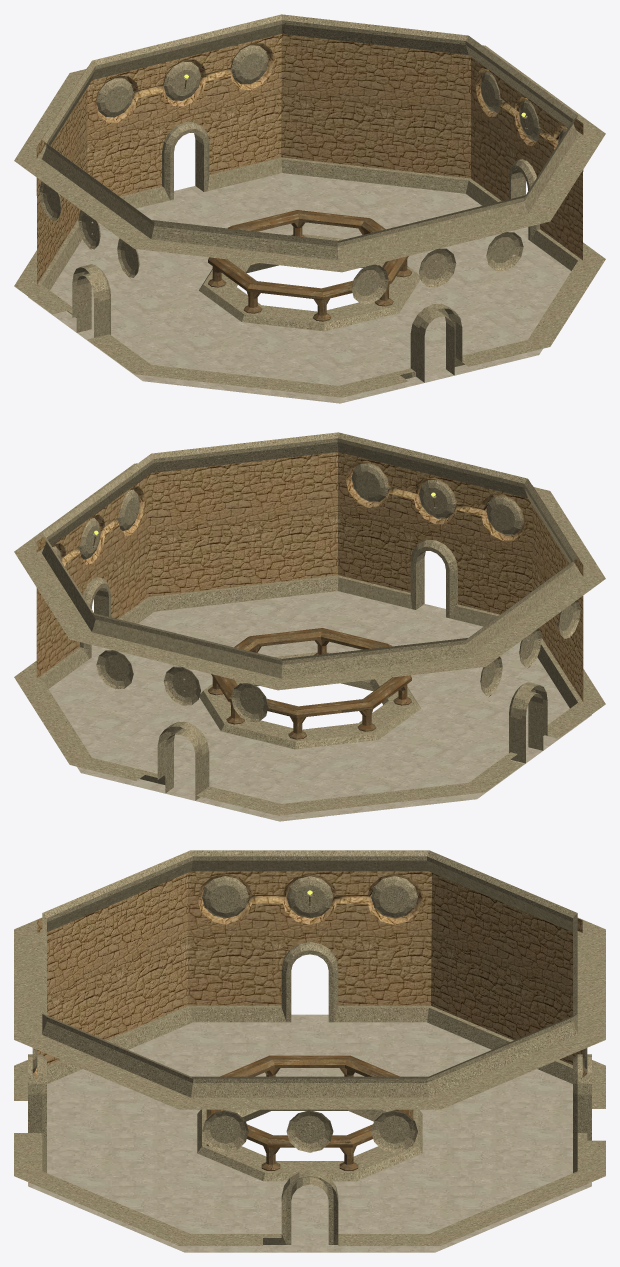
The model's file is LibraryMainRoom-transformed.glb.
The picture shows the model from 3 angles, top to bottom: view 1: azimuth 30°, elevation 25°; view 2: azimuth 150°, elevation 25°; view 3: azimuth 270°, elevation 25°; orthographic projection. The views are drawn at different scales.
Visible parts, largest first — view 1: object1.021, lowerwallCol, floorCol, railing1; view 2: object1.021, lowerwallCol, floorCol, railing1; view 3: object1.021, floorCol, lowerwallCol, railing1.
Part boxes in pixels (x1,y1,x2,y2): object1.021: (14, 14, 605, 397); lowerwallCol: (36, 34, 583, 284); floorCol: (28, 173, 571, 403); railing1: (208, 210, 411, 321); object1.021: (14, 432, 605, 815); lowerwallCol: (36, 452, 583, 701); floorCol: (48, 591, 591, 821); railing1: (208, 628, 411, 739); object1.021: (14, 850, 605, 1245); floorCol: (28, 1014, 591, 1252); lowerwallCol: (33, 871, 586, 1077); railing1: (206, 1055, 413, 1170).
Bounding box in the file's own units: 6.3 × 2.2 × 6.3.
Materials: 7 (6 with a texture image).
